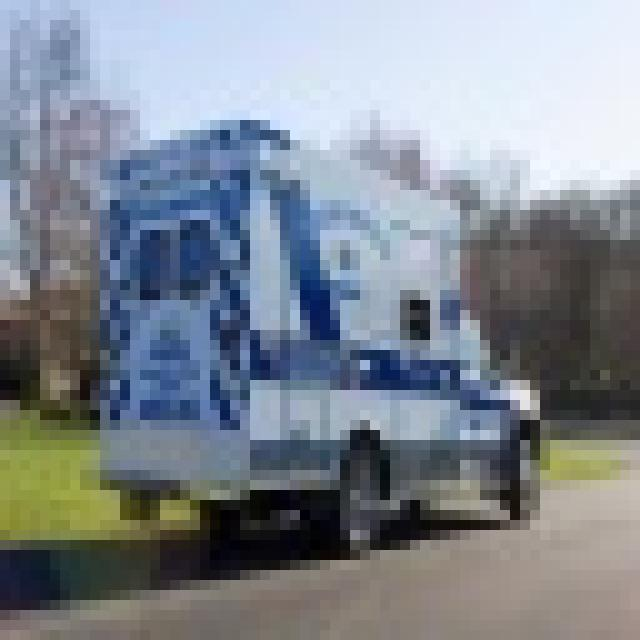Ambulance: (90, 110, 540, 550)
